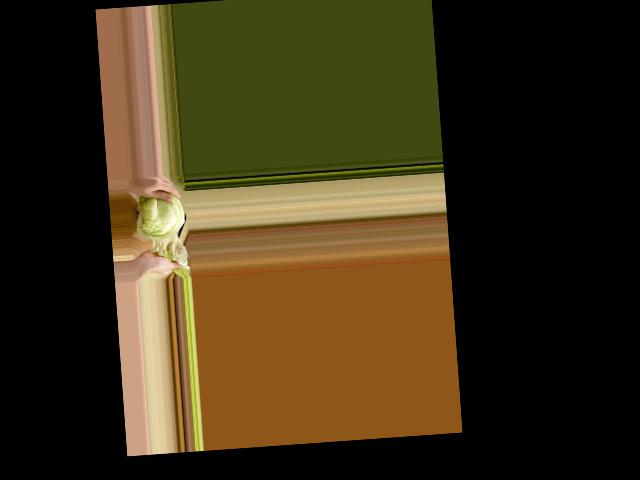lettuce: (131, 188, 188, 252)
